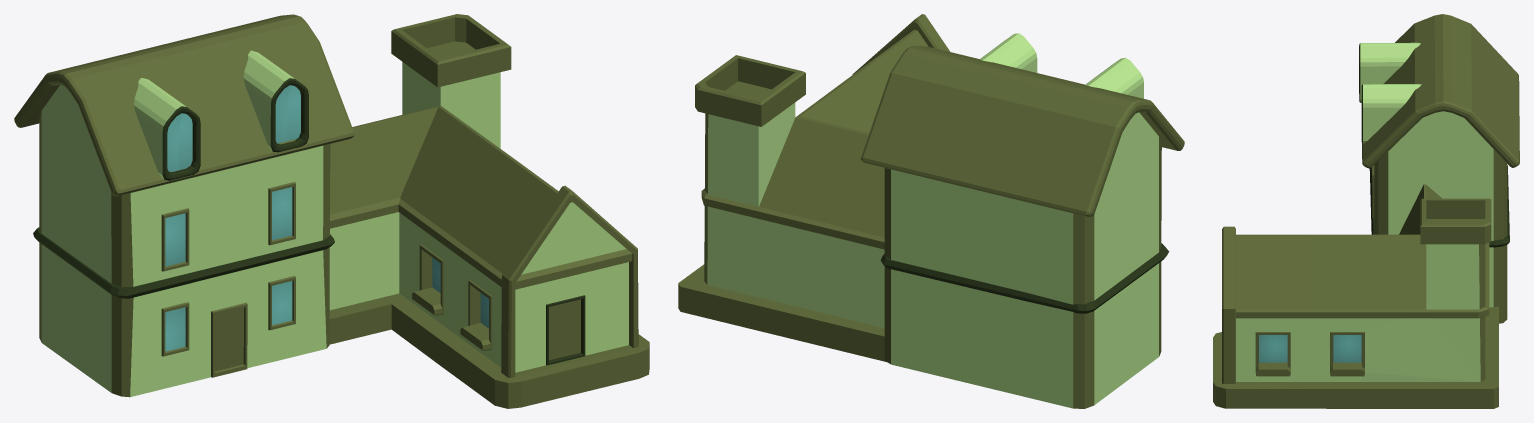
File: SM_House_12.fbx
3 views of the same model, side by side, from view 1: azimuth 30°, elevation 25°; view 2: azimuth 150°, elevation 25°; view 3: azimuth 270°, elevation 25° (orthographic). The views are drawn at different scales.
Visible parts, largest first — view 1: SM_House_12; view 2: SM_House_12; view 3: SM_House_12.
Boxes of the visible parts, x1,y1,x2,y2 form: SM_House_12: (14, 14, 649, 408); SM_House_12: (678, 14, 1184, 408); SM_House_12: (1213, 14, 1519, 408).
Bounding box in the file's own units: 1405 × 900 × 1090.
